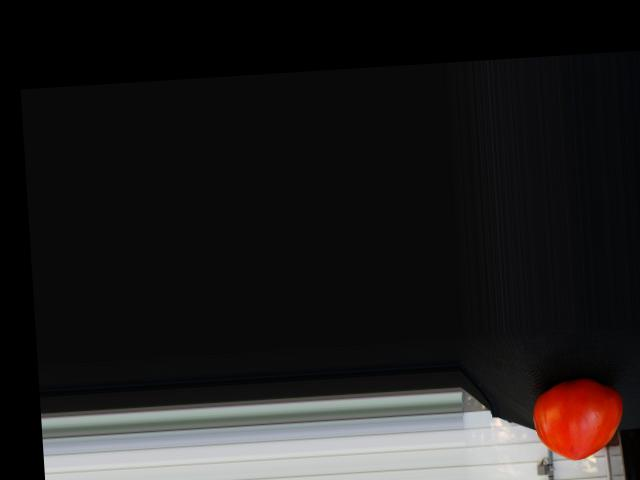tomato: (530, 375, 625, 463)
